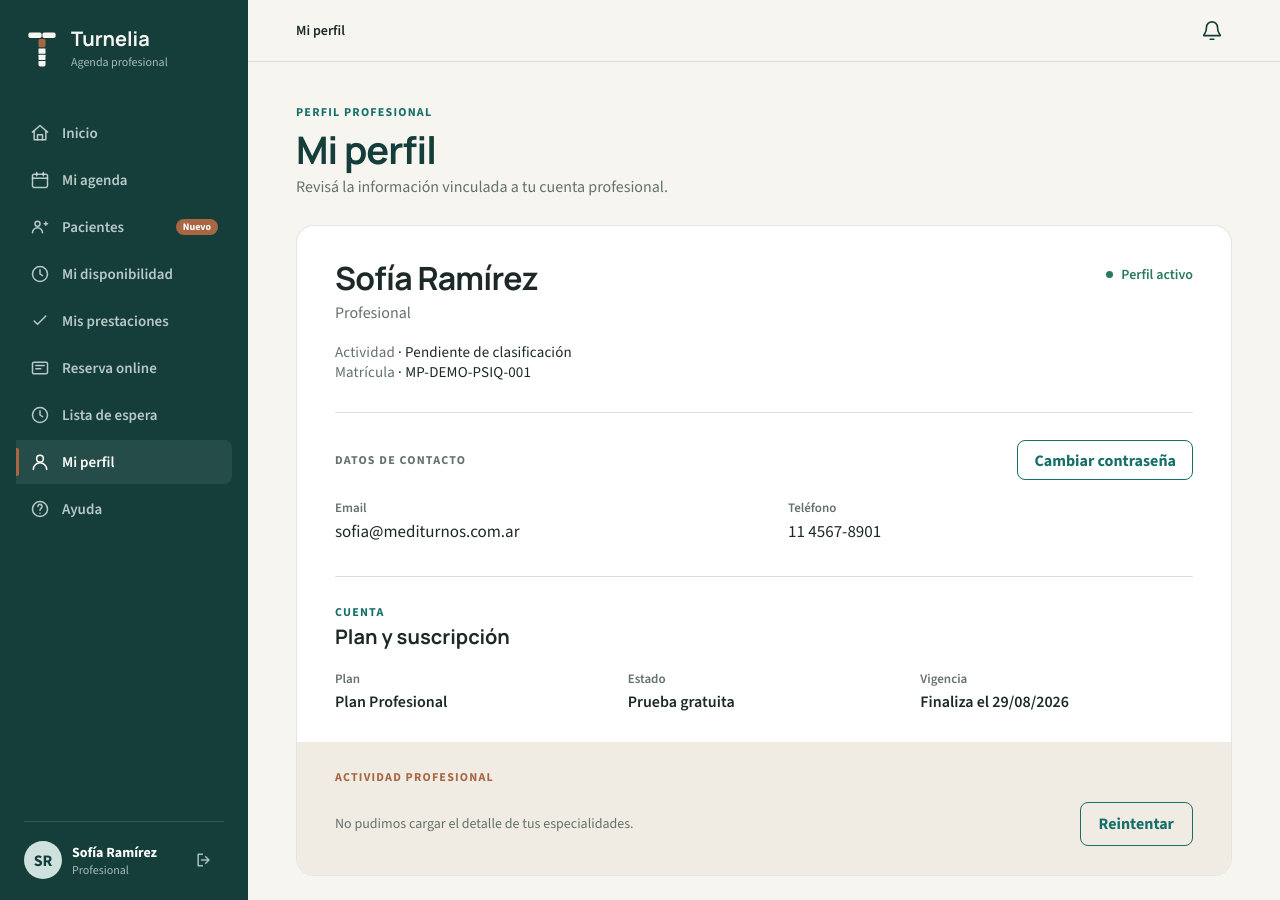
perfil profesional Salud Humana Signature › aísla el error de especialidades y permite reintentarlo
Expected: the heading "Sofía Ramírez" is shown, [335,256,538,300]
Expected: the message shows "No pudimos cargar el detalle de tus especialidades.", [335,814,634,833]
Click the button "Reintentar".
click(1136, 824)  # box [1080,802,1193,846]
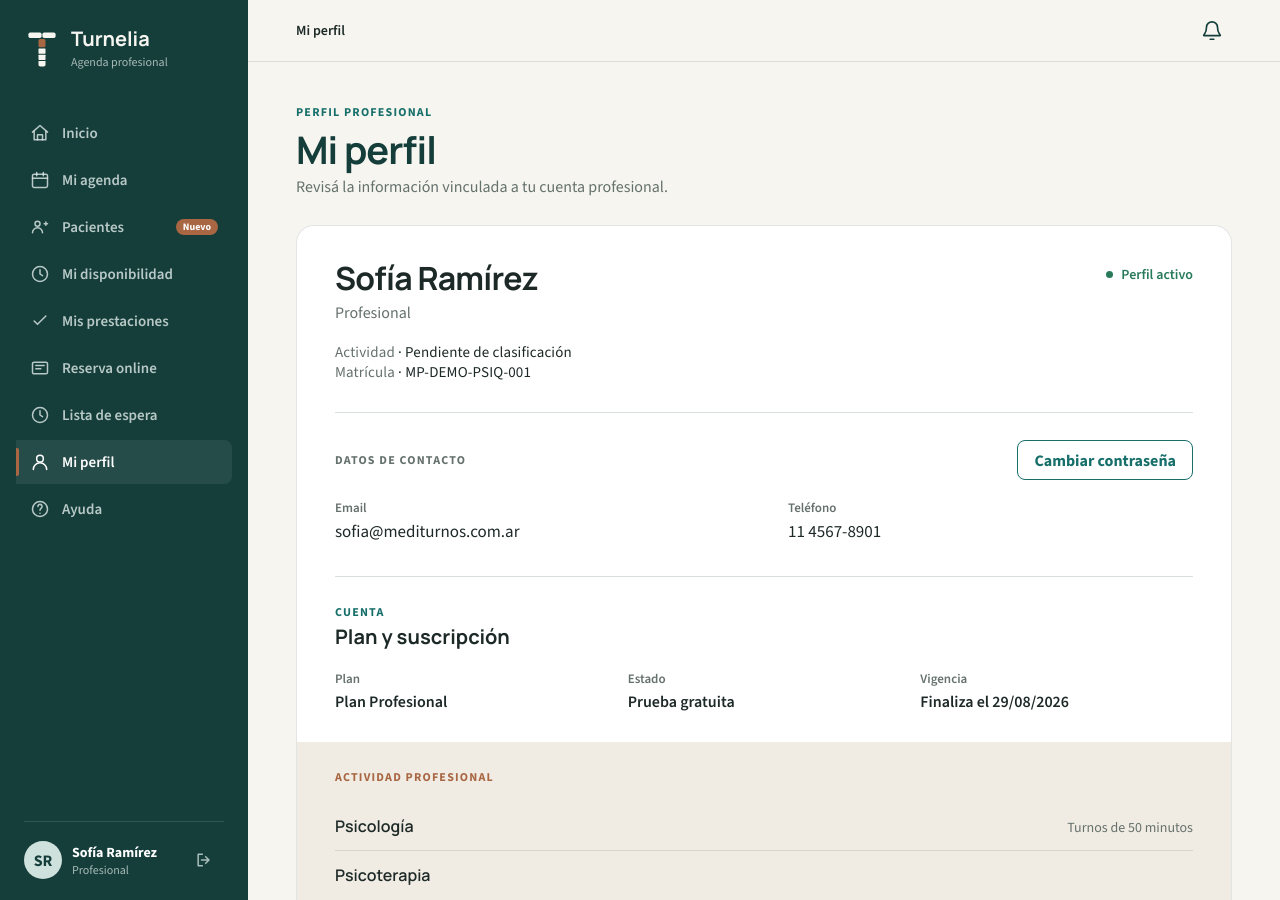
Now the text "Psicología" is shown, box [335,815,414,837]
